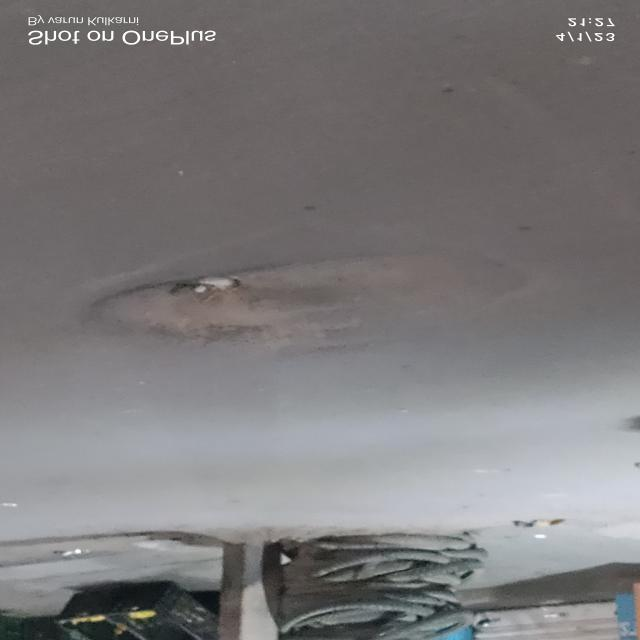potholes: (93, 262, 409, 340)
